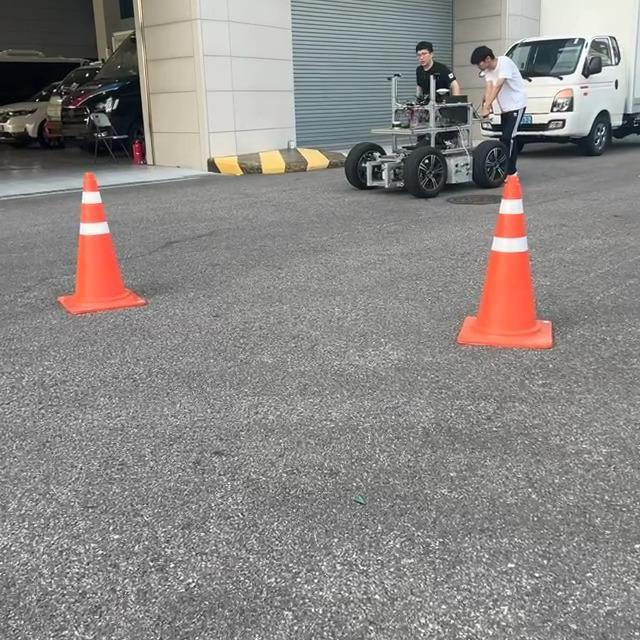fallen_object: (16, 140, 227, 356), (403, 142, 584, 365)
